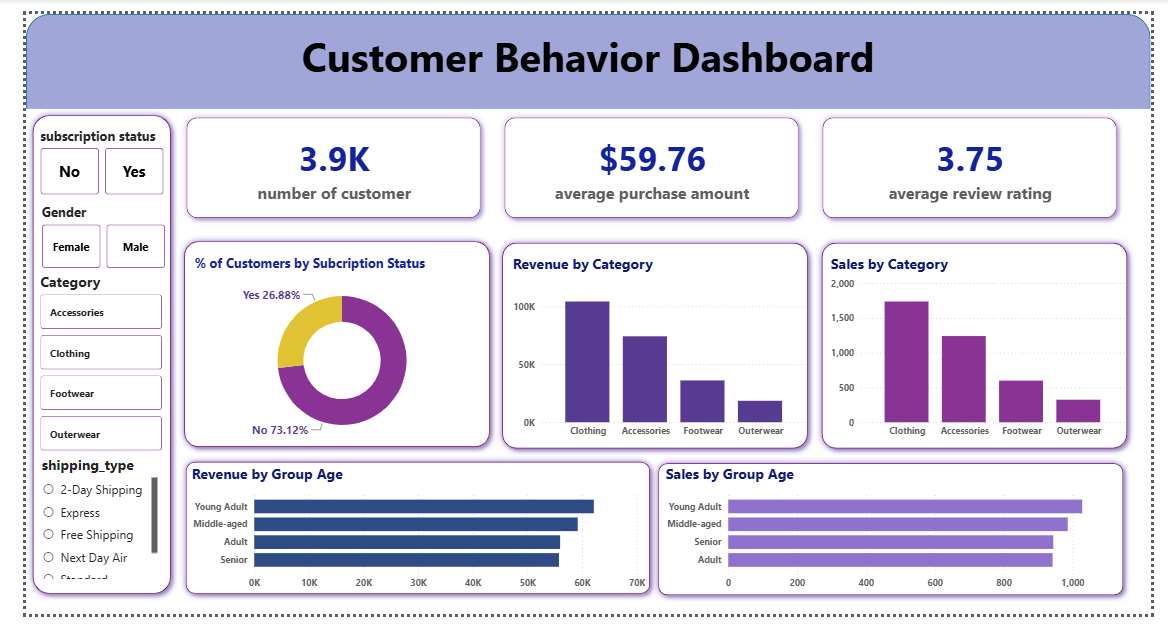

What the dashboard file says about the page in this screenshot:
{"tool":"powerbi","page":{"name":"Page 1","canvas":[1500,800],"ordinal":0},"visuals":[{"type":"cardVisual","fields":{"Data":["customer_behavior customer.number of customer","customer_behavior customer.average purchase amount","customer_behavior customer.average review rating"]},"box":[170.5,101.9,1328.8,194.9],"z":0},{"type":"shape","box":[0,0,1499.3,126.2],"z":1000},{"type":"textbox","box":[0,13.3,1499.3,112.9],"z":2000},{"type":"shape","box":[201.5,294.5,425.2,292.3],"z":3000},{"type":"donutChart","title":"% of Customers by Subcription  Status","fields":{"Category":["customer_behavior customer.subscription_status"],"Y":["Sum(customer_behavior customer.purchase_amount)"]},"box":[220,320,402,260],"z":4000},{"type":"shape","box":[626.7,296.8,425.2,292.3],"z":5000},{"type":"shape","box":[1051.9,296.8,425.2,292.3],"z":6000},{"type":"clusteredColumnChart","title":"Revenue by Category","fields":{"Y":["Sum(customer_behavior customer.purchase_amount)"],"Category":["customer_behavior customer.category"]},"box":[644,320,402,254],"z":7000},{"type":"clusteredColumnChart","title":"Sales by Category","fields":{"Category":["customer_behavior customer.category"],"Y":["CountNonNull(customer_behavior customer.customer_id)"]},"box":[1068,320,402,254],"z":8000},{"type":"shape","box":[0,126,202,656],"z":9000},{"type":"advancedSlicerVisual","title":"subscription status","fields":{"Values":["customer_behavior customer.subscription_status"]},"box":[14,150,174,96],"z":10000},{"type":"advancedSlicerVisual","title":"Gender","fields":{"Values":["customer_behavior customer.gender"]},"box":[16,252,174,92],"z":11000},{"type":"advancedSlicerVisual","fields":{"Values":["customer_behavior customer.category"]},"box":[14,344,172,244],"z":12000},{"type":"listSlicer","fields":{"Values":["customer_behavior customer.shipping_type"]},"box":[16,588,164,170],"z":13000},{"type":"shape","box":[204,588,637,194],"z":14000},{"type":"shape","box":[834,590,638,194],"z":15000},{"type":"clusteredBarChart","title":"Revenue by Group Age","fields":{"Y":["Sum(customer_behavior customer.purchase_amount)"],"Category":["customer_behavior customer.group_age"]},"box":[216,600,614,176],"z":16000},{"type":"clusteredBarChart","title":"Sales by Group Age","fields":{"Category":["customer_behavior customer.group_age"],"Y":["CountNonNull(customer_behavior customer.customer_id)"]},"box":[848,600,614,176],"z":17000}]}

Visuals, with their boxes in screenshot pixels (x1, y1, x2, y2), scaled from the page's 1500x800 canvas onto the 1168x628 screenshot:
cardVisual - customer_behavior customer.number of customer x customer_behavior customer.average purchase amount: [x1=133, y1=80, x2=1167, y2=233]
shape: [x1=0, y1=0, x2=1167, y2=99]
textbox: [x1=0, y1=10, x2=1167, y2=99]
shape: [x1=157, y1=231, x2=488, y2=461]
"% of Customers by Subcription  Status" donutChart: [x1=171, y1=251, x2=484, y2=455]
shape: [x1=488, y1=233, x2=819, y2=462]
shape: [x1=819, y1=233, x2=1150, y2=462]
"Revenue by Category" clusteredColumnChart: [x1=501, y1=251, x2=814, y2=451]
"Sales by Category" clusteredColumnChart: [x1=832, y1=251, x2=1145, y2=451]
shape: [x1=0, y1=99, x2=157, y2=614]
"subscription status" advancedSlicerVisual: [x1=11, y1=118, x2=146, y2=193]
"Gender" advancedSlicerVisual: [x1=12, y1=198, x2=148, y2=270]
advancedSlicerVisual - customer_behavior customer.category: [x1=11, y1=270, x2=145, y2=462]
listSlicer - customer_behavior customer.shipping_type: [x1=12, y1=462, x2=140, y2=595]
shape: [x1=159, y1=462, x2=655, y2=614]
shape: [x1=649, y1=463, x2=1146, y2=615]
"Revenue by Group Age" clusteredBarChart: [x1=168, y1=471, x2=646, y2=609]
"Sales by Group Age" clusteredBarChart: [x1=660, y1=471, x2=1138, y2=609]
